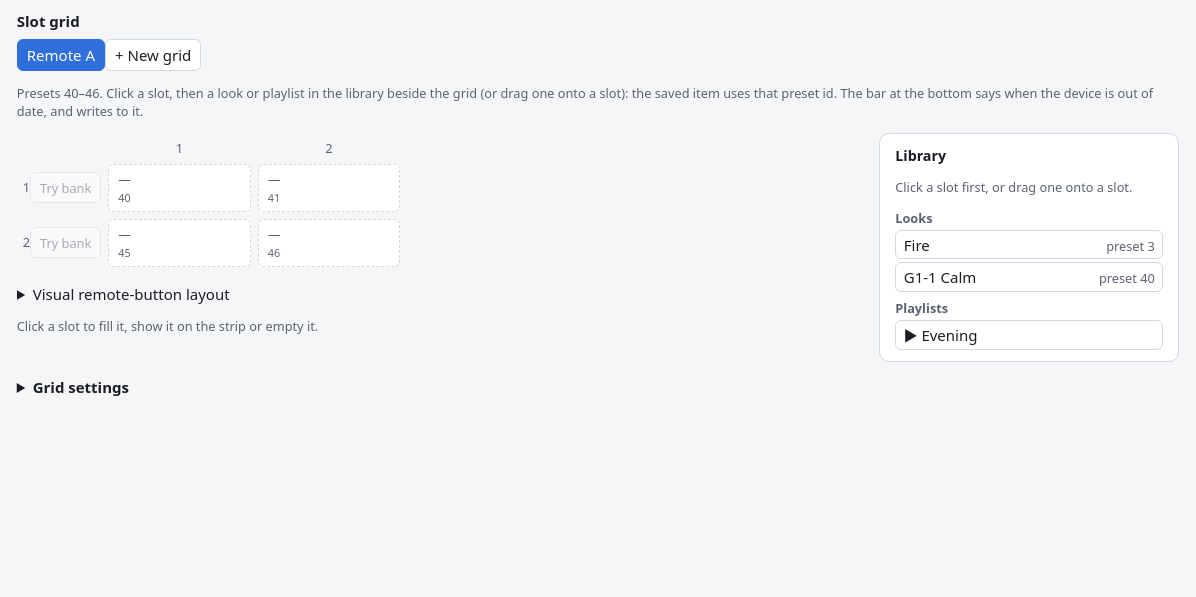
removing the grid is explained and confirmed in grid settings
This screenshot has width=1196, height=597.
Check: the table named "Slot grid" is shown, box [17, 132, 406, 272]
Click the heading "Grid settings": (81, 387) [33, 377, 129, 397]
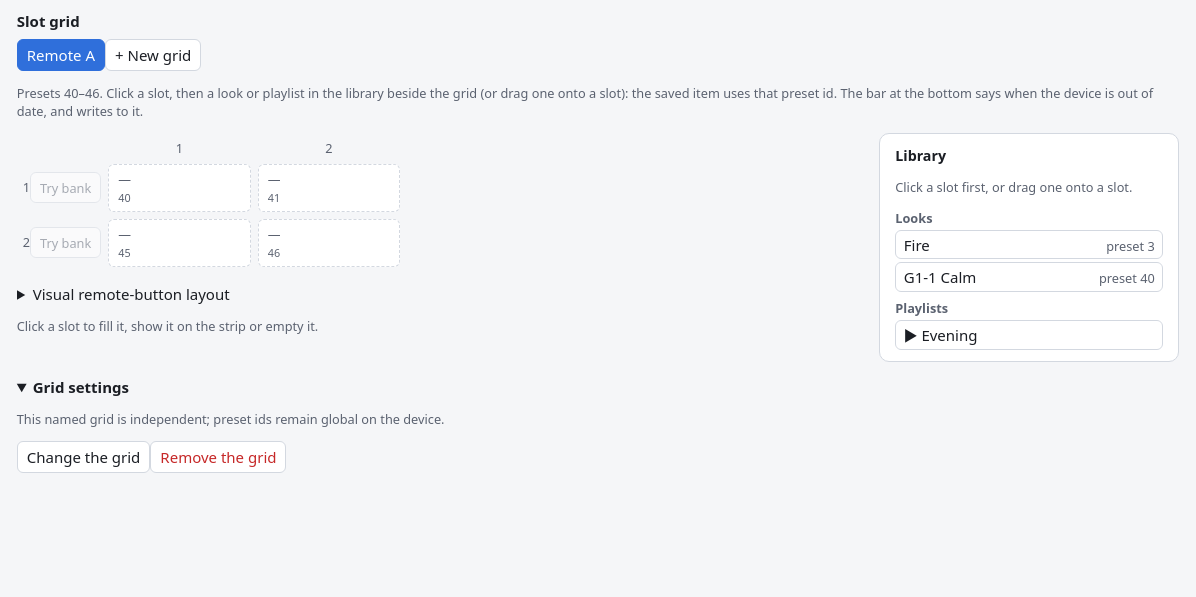
Check: the text "independent; preset ids remain global" is shown, box [17, 410, 445, 428]
Click the button "Remove the grid": (218, 457) [150, 440, 286, 473]
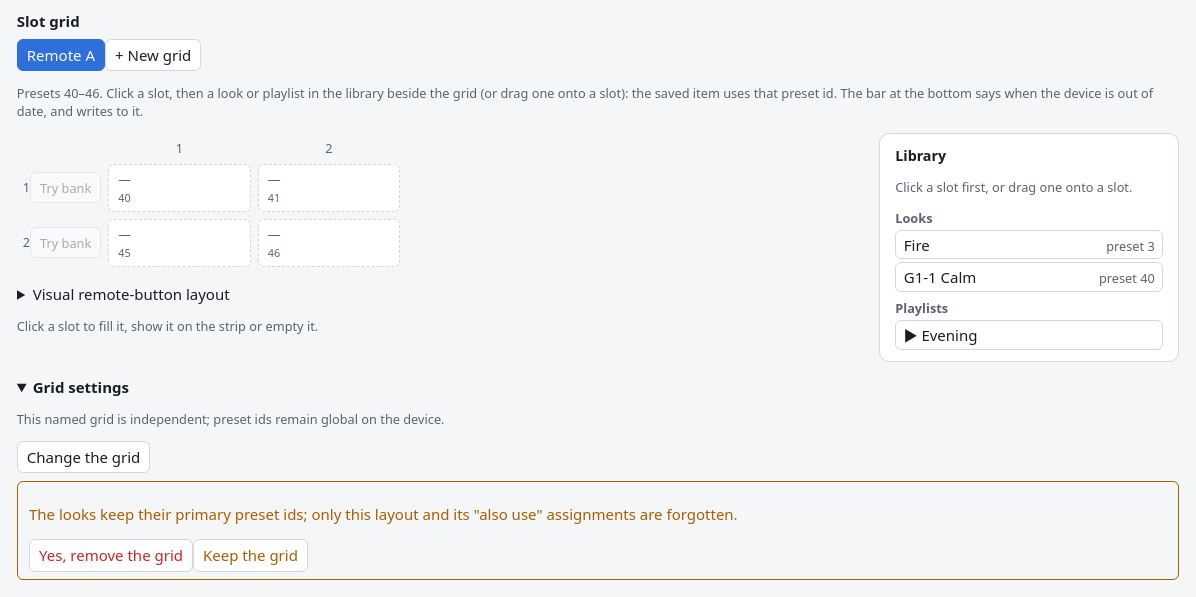
Check: the element named "Confirm removing the grid" shows "The looks keep their primary preset ids; only this layout and its \"also use\" assignments are forgotten.", box [29, 504, 738, 524]
Click the button "Yes, remove the grid": (111, 555) [29, 539, 193, 572]
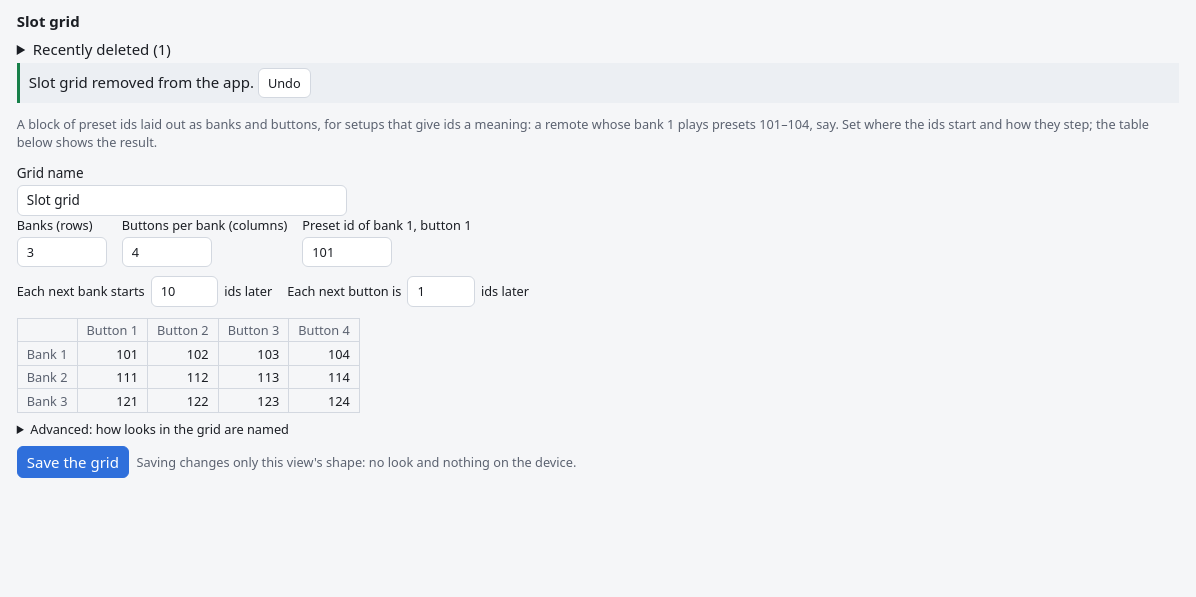
Check: the number field labelled "Banks (rows)" is shown, box [17, 236, 107, 267]
